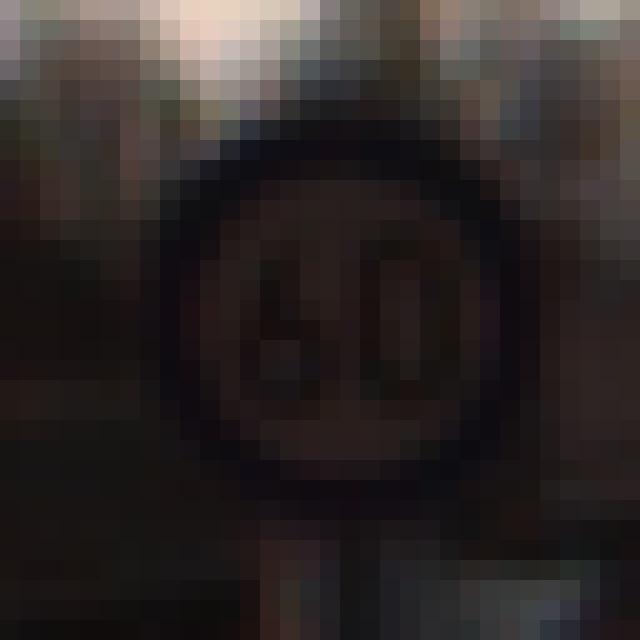SPEED-LIMIT-60: (150, 110, 529, 497)
